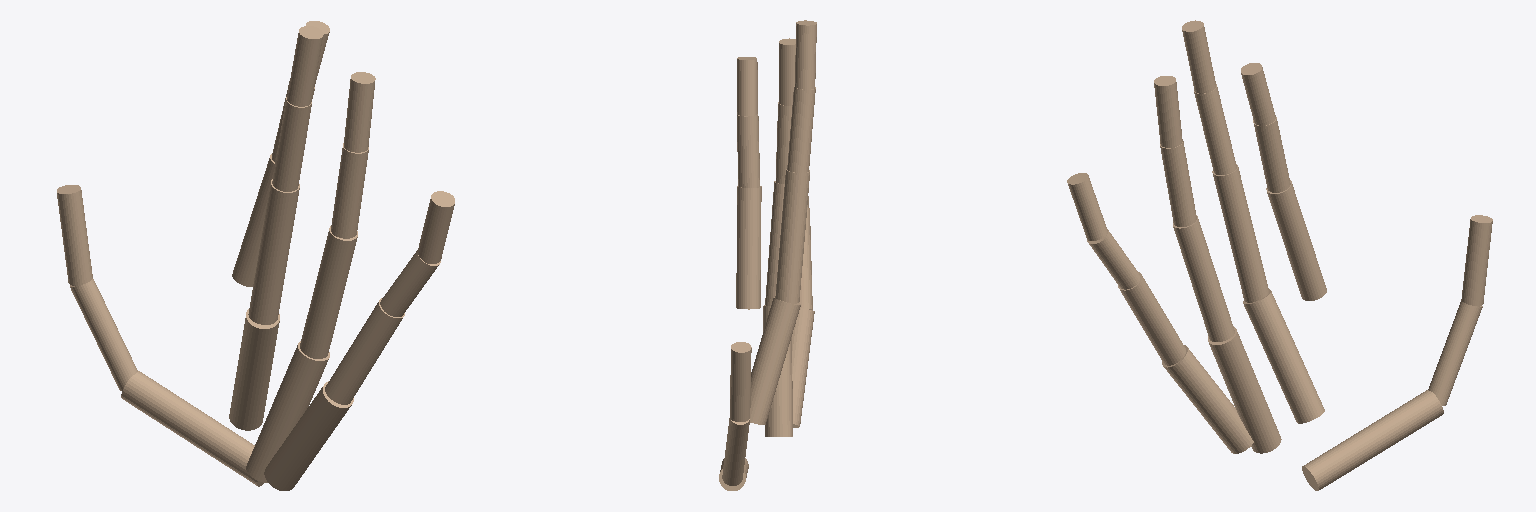
URDF robot description (DLR_handmodel):
<?xml version='1.0' encoding='utf-8'?>
<robot name="DLR_handmodel">
  <link name="ground_oriented" /><joint name="ground_orientation_joint" type="fixed"><parent link="ground" /><child link="ground_oriented" /><origin xyz="0 0 0" rpy="-1.5707963268 0.0000000000 0.0000000000" /></joint><link name="ground">
    <inertial>
      <origin xyz="0 0 0" rpy="0 0 0" />
      <mass value="0.001" />
      <inertia ixx="1e-6" iyy="1e-6" izz="1e-6" ixy="0" ixz="0" iyz="0" />
    </inertial>
  </link>
  <link name="MCP2a">
    <inertial>
      <origin xyz="0 0 0" rpy="0 0 0" />
      <mass value="0.001" />
      <inertia ixx="1e-6" iyy="1e-6" izz="1e-6" ixy="0" ixz="0" iyz="0" />
    </inertial>
  </link>
  <joint name="MCP2a_joint" type="revolute">
    <parent link="ground_oriented" />
    <child link="MCP2a" />
    <origin xyz="0.00112756 -0.02894003 -0.00258697" rpy="-2.97153179 0.17373322 -2.16226478" />
    <axis xyz="0 0 1" />
    <limit effort="10" velocity="10" lower="-1.02" upper="0.903" />
  </joint>
  <link name="MCP2b">
    <inertial>
      <origin xyz="0 0 0" rpy="0 0 0" />
      <mass value="0.001" />
      <inertia ixx="1e-6" iyy="1e-6" izz="1e-6" ixy="0" ixz="0" iyz="0" />
    </inertial>
  </link>
  <joint name="MCP2b_joint" type="revolute">
    <parent link="MCP2a" />
    <child link="MCP2b" />
    <origin xyz="0 0 0" rpy="1.57079327 1.29757309 -2.98206879" />
    <axis xyz="0 0 1" />
    <limit effort="10" velocity="10" lower="-0.203" upper="0.991" />
  </joint>
  <link name="PP2">
    <inertial>
      <origin xyz="0 0 0" rpy="0 0 0" />
      <mass value="0.001" />
      <inertia ixx="1e-6" iyy="1e-6" izz="1e-6" ixy="0" ixz="0" iyz="0" />
    </inertial>
    <visual>
      <origin xyz="0.00210206 0.00594899 0.00023393" rpy="1.51767576 0.02382108 0.02258825" />
      <geometry>
        <cylinder radius="0.004750" length="0.047381" />
      </geometry>
      <material>
        <color rgba="0.8 0.7 0.6 1.0" />
      </material>
    </visual>
  </link>
  <joint name="PP2_fixed" type="fixed">
    <parent link="MCP2b" />
    <child link="PP2" />
    <origin xyz="-0.01266949 -0.01784861 -0.02001128" rpy="2.01815253 0.68638224 1.52729883" />
  </joint>
  <link name="PIP2">
    <inertial>
      <origin xyz="0 0 0" rpy="0 0 0" />
      <mass value="0.001" />
      <inertia ixx="1e-6" iyy="1e-6" izz="1e-6" ixy="0" ixz="0" iyz="0" />
    </inertial>
  </link>
  <joint name="PIP2_joint" type="revolute">
    <parent link="PP2" />
    <child link="PIP2" />
    <origin xyz="0.00266634 -0.01770148 0.00149144" rpy="3.02407871 0.32603526 2.08465167" />
    <axis xyz="0 0 1" />
    <limit effort="10" velocity="10" lower="-2.008" upper="0.171" />
  </joint>
  <link name="PM2">
    <inertial>
      <origin xyz="0 0 0" rpy="0 0 0" />
      <mass value="0.001" />
      <inertia ixx="1e-6" iyy="1e-6" izz="1e-6" ixy="0" ixz="0" iyz="0" />
    </inertial>
    <visual>
      <origin xyz="0.00085370 0.00262885 0.00111374" rpy="1.52870185 0.02065890 0.01980714" />
      <geometry>
        <cylinder radius="0.004250" length="0.028645" />
      </geometry>
      <material>
        <color rgba="0.8 0.7 0.6 1.0" />
      </material>
    </visual>
  </link>
  <joint name="PM2_fixed" type="fixed">
    <parent link="PIP2" />
    <child link="PM2" />
    <origin xyz="-0.01430452 -0.00863928 0.00285207" rpy="-3.00555093 0.26221168 2.12536254" />
  </joint>
  <link name="DIP2">
    <inertial>
      <origin xyz="0 0 0" rpy="0 0 0" />
      <mass value="0.001" />
      <inertia ixx="1e-6" iyy="1e-6" izz="1e-6" ixy="0" ixz="0" iyz="0" />
    </inertial>
    <visual>
      <origin xyz="-0.01055456 -0.00294827 0.00050222" rpy="-1.52498367 -0.02609802 1.84199250" />
      <geometry>
        <cylinder radius="0.004000" length="0.021940" />
      </geometry>
      <material>
        <color rgba="0.8 0.7 0.6 1.0" />
      </material>
    </visual>
  </link>
  <joint name="DIP2_joint" type="revolute">
    <parent link="PM2" />
    <child link="DIP2" />
    <origin xyz="0.00114957 -0.01167801 0.00171634" rpy="3.10919338 0.05910672 1.83892284" />
    <axis xyz="0 0 1" />
    <limit effort="10" velocity="10" lower="-1.366" upper="0.829" />
  </joint>
  <link name="CMC1a">
    <inertial>
      <origin xyz="0 0 0" rpy="0 0 0" />
      <mass value="0.001" />
      <inertia ixx="1e-6" iyy="1e-6" izz="1e-6" ixy="0" ixz="0" iyz="0" />
    </inertial>
  </link>
  <joint name="CMC1a_joint" type="revolute">
    <parent link="ground_oriented" />
    <child link="CMC1a" />
    <origin xyz="0.01950111 0.02695073 0.00443441" rpy="2.48727972 -0.14754713 -0.42888542" />
    <axis xyz="0 0 1" />
    <limit effort="10" velocity="10" lower="-0.929" upper="0.27" />
  </joint>
  <link name="CMC1b">
    <inertial>
      <origin xyz="0 0 0" rpy="0 0 0" />
      <mass value="0.001" />
      <inertia ixx="1e-6" iyy="1e-6" izz="1e-6" ixy="0" ixz="0" iyz="0" />
    </inertial>
  </link>
  <joint name="CMC1b_joint" type="revolute">
    <parent link="CMC1a" />
    <child link="CMC1b" />
    <origin xyz="-0.01737179 -0.00971473 0.00000009" rpy="-1.37890303 0.5583485 1.29247478" />
    <axis xyz="0 0 1" />
    <limit effort="10" velocity="10" lower="0.005" upper="0.866" />
  </joint>
  <link name="MC1">
    <inertial>
      <origin xyz="0 0 0" rpy="0 0 0" />
      <mass value="0.001" />
      <inertia ixx="1e-6" iyy="1e-6" izz="1e-6" ixy="0" ixz="0" iyz="0" />
    </inertial>
    <visual>
      <origin xyz="0.00280980 0.00826182 -0.00805952" rpy="1.30083853 -0.05313827 -0.04043512" />
      <geometry>
        <cylinder radius="0.005250" length="0.054157" />
      </geometry>
      <material>
        <color rgba="0.8 0.7 0.6 1.0" />
      </material>
    </visual>
  </link>
  <joint name="MC1_fixed" type="fixed">
    <parent link="CMC1b" />
    <child link="MC1" />
    <origin xyz="0.03354848 -0.01248297 0.01216455" rpy="-2.40732831 0.54908404 -1.85815669" />
  </joint>
  <link name="MCP1a">
    <inertial>
      <origin xyz="0 0 0" rpy="0 0 0" />
      <mass value="0.001" />
      <inertia ixx="1e-6" iyy="1e-6" izz="1e-6" ixy="0" ixz="0" iyz="0" />
    </inertial>
  </link>
  <joint name="MCP1a_joint" type="revolute">
    <parent link="MC1" />
    <child link="MCP1a" />
    <origin xyz="0.00137157 -0.01779916 -0.00084812" rpy="3.05390316 -0.00793818 0.17955431" />
    <axis xyz="0 0 1" />
    <limit effort="10" velocity="10" lower="-0.001" upper="1.614" />
  </joint>
  <link name="MCP1b">
    <inertial>
      <origin xyz="0 0 0" rpy="0 0 0" />
      <mass value="0.001" />
      <inertia ixx="1e-6" iyy="1e-6" izz="1e-6" ixy="0" ixz="0" iyz="0" />
    </inertial>
  </link>
  <joint name="MCP1b_joint" type="revolute">
    <parent link="MCP1a" />
    <child link="MCP1b" />
    <origin xyz="0 0 0" rpy="1.57077559 1.40697104 -1.11025748" />
    <axis xyz="0 0 1" />
    <limit effort="10" velocity="10" lower="-0.002" upper="1.189" />
  </joint>
  <link name="PP1">
    <inertial>
      <origin xyz="0 0 0" rpy="0 0 0" />
      <mass value="0.001" />
      <inertia ixx="1e-6" iyy="1e-6" izz="1e-6" ixy="0" ixz="0" iyz="0" />
    </inertial>
    <visual>
      <origin xyz="0.00187697 0.00534056 0.00067829" rpy="1.53491659 0.00178693 0.00172394" />
      <geometry>
        <cylinder radius="0.004000" length="0.037984" />
      </geometry>
      <material>
        <color rgba="0.8 0.7 0.6 1.0" />
      </material>
    </visual>
  </link>
  <joint name="PP1_fixed" type="fixed">
    <parent link="MCP1b" />
    <child link="PP1" />
    <origin xyz="-0.00881935 -0.01471952 -0.01733277" rpy="1.5741734 0.70472886 1.03560697" />
  </joint>
  <link name="IP1">
    <inertial>
      <origin xyz="0 0 0" rpy="0 0 0" />
      <mass value="0.001" />
      <inertia ixx="1e-6" iyy="1e-6" izz="1e-6" ixy="0" ixz="0" iyz="0" />
    </inertial>
    <visual>
      <origin xyz="-0.00586655 -0.01483146 0.00018116" rpy="-1.55930435 -0.15299313 2.76317902" />
      <geometry>
        <cylinder radius="0.004000" length="0.031901" />
      </geometry>
      <material>
        <color rgba="0.8 0.7 0.6 1.0" />
      </material>
    </visual>
  </link>
  <joint name="IP1_joint" type="revolute">
    <parent link="PP1" />
    <child link="IP1" />
    <origin xyz="0.00191091 -0.0136391 0.00135957" rpy="3.1212228 -0.2734143 -3.20378307" />
    <axis xyz="0 0 1" />
    <limit effort="10" velocity="10" lower="-1.0" upper="0.793" />
  </joint>
  <link name="IMC3">
    <inertial>
      <origin xyz="0 0 0" rpy="0 0 0" />
      <mass value="0.001" />
      <inertia ixx="1e-6" iyy="1e-6" izz="1e-6" ixy="0" ixz="0" iyz="0" />
    </inertial>
  </link>
  <joint name="IMC3_joint" type="revolute">
    <parent link="ground_oriented" />
    <child link="IMC3" />
    <origin xyz="0.000273 0.01967667 -0.00381503" rpy="1.77115361 -0.08468856 -0.10358527" />
    <axis xyz="0 0 1" />
    <limit effort="10" velocity="10" lower="-0.076" upper="0.27" />
  </joint>
  <link name="MC3">
    <inertial>
      <origin xyz="0 0 0" rpy="0 0 0" />
      <mass value="0.001" />
      <inertia ixx="1e-6" iyy="1e-6" izz="1e-6" ixy="0" ixz="0" iyz="0" />
    </inertial>
    <visual>
      <origin xyz="0.00361529 -0.00394312 0.00514889" rpy="1.75995059 -0.04621467 -0.05589681" />
      <geometry>
        <cylinder radius="0.005500" length="0.048806" />
      </geometry>
      <material>
        <color rgba="0.8 0.7 0.6 1.0" />
      </material>
    </visual>
  </link>
  <joint name="MC3_fixed" type="fixed">
    <parent link="IMC3" />
    <child link="MC3" />
    <origin xyz="-0.00495342 -0.00967755 0.01997446" rpy="-1.55666295 0.02564177 -0.07324621" />
  </joint>
  <link name="MCP3a">
    <inertial>
      <origin xyz="0 0 0" rpy="0 0 0" />
      <mass value="0.001" />
      <inertia ixx="1e-6" iyy="1e-6" izz="1e-6" ixy="0" ixz="0" iyz="0" />
    </inertial>
  </link>
  <joint name="MCP3a_joint" type="revolute">
    <parent link="MC3" />
    <child link="MCP3a" />
    <origin xyz="0.00248792 -0.02788517 0.00056535" rpy="-3.06481638 0.18119135 -3.05161826" />
    <axis xyz="0 0 1" />
    <limit effort="10" velocity="10" lower="-1.401" upper="0.655" />
  </joint>
  <link name="MCP3b">
    <inertial>
      <origin xyz="0 0 0" rpy="0 0 0" />
      <mass value="0.001" />
      <inertia ixx="1e-6" iyy="1e-6" izz="1e-6" ixy="0" ixz="0" iyz="0" />
    </inertial>
  </link>
  <joint name="MCP3b_joint" type="revolute">
    <parent link="MCP3a" />
    <child link="MCP3b" />
    <origin xyz="0 0 0" rpy="1.57079258 1.43881163 2.40418212" />
    <axis xyz="0 0 1" />
    <limit effort="10" velocity="10" lower="-0.361" upper="0.379" />
  </joint>
  <link name="PP3">
    <inertial>
      <origin xyz="0 0 0" rpy="0 0 0" />
      <mass value="0.001" />
      <inertia ixx="1e-6" iyy="1e-6" izz="1e-6" ixy="0" ixz="0" iyz="0" />
    </inertial>
    <visual>
      <origin xyz="0.00198584 0.00617869 0.00052671" rpy="1.57515141 0.03801393 0.03817980" />
      <geometry>
        <cylinder radius="0.004750" length="0.052070" />
      </geometry>
      <material>
        <color rgba="0.8 0.7 0.6 1.0" />
      </material>
    </visual>
  </link>
  <joint name="PP3_fixed" type="fixed">
    <parent link="MCP3b" />
    <child link="PP3" />
    <origin xyz="-0.00585579 -0.02263291 -0.02216632" rpy="1.80985017 0.74680743 1.67804873" />
  </joint>
  <link name="PIP3">
    <inertial>
      <origin xyz="0 0 0" rpy="0 0 0" />
      <mass value="0.001" />
      <inertia ixx="1e-6" iyy="1e-6" izz="1e-6" ixy="0" ixz="0" iyz="0" />
    </inertial>
  </link>
  <joint name="PIP3_joint" type="revolute">
    <parent link="PP3" />
    <child link="PIP3" />
    <origin xyz="0.00297529 -0.01983706 0.00041341" rpy="-3.10128167 0.0516092 -2.38548014" />
    <axis xyz="0 0 1" />
    <limit effort="10" velocity="10" lower="-1.989" upper="0.233" />
  </joint>
  <link name="PM3">
    <inertial>
      <origin xyz="0 0 0" rpy="0 0 0" />
      <mass value="0.001" />
      <inertia ixx="1e-6" iyy="1e-6" izz="1e-6" ixy="0" ixz="0" iyz="0" />
    </inertial>
    <visual>
      <origin xyz="-0.00003813 0.00286024 0.00063869" rpy="1.61707877 0.00949522 0.00994517" />
      <geometry>
        <cylinder radius="0.004250" length="0.033133" />
      </geometry>
      <material>
        <color rgba="0.8 0.7 0.6 1.0" />
      </material>
    </visual>
  </link>
  <joint name="PM3_fixed" type="fixed">
    <parent link="PIP3" />
    <child link="PM3" />
    <origin xyz="0.0128016 -0.0146496 0.00044222" rpy="3.0920109 -0.00372241 -2.41345172" />
  </joint>
  <link name="DIP3">
    <inertial>
      <origin xyz="0 0 0" rpy="0 0 0" />
      <mass value="0.001" />
      <inertia ixx="1e-6" iyy="1e-6" izz="1e-6" ixy="0" ixz="0" iyz="0" />
    </inertial>
    <visual>
      <origin xyz="0.00230593 -0.01261149 0.00046200" rpy="-1.53328061 -0.28324714 -2.97123572" />
      <geometry>
        <cylinder radius="0.004000" length="0.025658" />
      </geometry>
      <material>
        <color rgba="0.8 0.7 0.6 1.0" />
      </material>
    </visual>
  </link>
  <joint name="DIP3_joint" type="revolute">
    <parent link="PM3" />
    <child link="DIP3" />
    <origin xyz="0.00011917 -0.01368763 -0.00012773" rpy="-3.06294799 0.29509605 -2.90405259" />
    <axis xyz="0 0 1" />
    <limit effort="10" velocity="10" lower="-1.486" upper="0.418" />
  </joint>
  <link name="IMC4">
    <inertial>
      <origin xyz="0 0 0" rpy="0 0 0" />
      <mass value="0.001" />
      <inertia ixx="1e-6" iyy="1e-6" izz="1e-6" ixy="0" ixz="0" iyz="0" />
    </inertial>
  </link>
  <joint name="IMC4_joint" type="revolute">
    <parent link="MC3" />
    <child link="IMC4" />
    <origin xyz="0.00060402 0.02840978 -0.0080106" rpy="1.27408673 -0.19279634 -0.05286132" />
    <axis xyz="0 0 1" />
    <limit effort="10" velocity="10" lower="0.005" upper="0.366" />
  </joint>
  <link name="MC4">
    <inertial>
      <origin xyz="0 0 0" rpy="0 0 0" />
      <mass value="0.001" />
      <inertia ixx="1e-6" iyy="1e-6" izz="1e-6" ixy="0" ixz="0" iyz="0" />
    </inertial>
    <visual>
      <origin xyz="0.00183217 0.00048279 0.00038408" rpy="1.64362475 -0.04336960 -0.04664786" />
      <geometry>
        <cylinder radius="0.005500" length="0.050772" />
      </geometry>
      <material>
        <color rgba="0.8 0.7 0.6 1.0" />
      </material>
    </visual>
  </link>
  <joint name="MC4_fixed" type="fixed">
    <parent link="IMC4" />
    <child link="MC4" />
    <origin xyz="0.0030355 -0.0128709 0.02243187" rpy="-1.13307596 0.24986687 0.0261586" />
  </joint>
  <link name="MCP4a">
    <inertial>
      <origin xyz="0 0 0" rpy="0 0 0" />
      <mass value="0.001" />
      <inertia ixx="1e-6" iyy="1e-6" izz="1e-6" ixy="0" ixz="0" iyz="0" />
    </inertial>
  </link>
  <joint name="MCP4a_joint" type="revolute">
    <parent link="MC4" />
    <child link="MCP4a" />
    <origin xyz="0.00073153 -0.02481215 -0.00146137" rpy="-3.02998578 0.00639049 -0.52427495" />
    <axis xyz="0 0 1" />
    <limit effort="10" velocity="10" lower="-1.462" upper="0.77" />
  </joint>
  <link name="MCP4b">
    <inertial>
      <origin xyz="0 0 0" rpy="0 0 0" />
      <mass value="0.001" />
      <inertia ixx="1e-6" iyy="1e-6" izz="1e-6" ixy="0" ixz="0" iyz="0" />
    </inertial>
  </link>
  <joint name="MCP4b_joint" type="revolute">
    <parent link="MCP4a" />
    <child link="MCP4b" />
    <origin xyz="0 0 0" rpy="1.57079782 0.88958636 -0.97804086" />
    <axis xyz="0 0 1" />
    <limit effort="10" velocity="10" lower="-0.358" upper="0.419" />
  </joint>
  <link name="PP4">
    <inertial>
      <origin xyz="0 0 0" rpy="0 0 0" />
      <mass value="0.001" />
      <inertia ixx="1e-6" iyy="1e-6" izz="1e-6" ixy="0" ixz="0" iyz="0" />
    </inertial>
    <visual>
      <origin xyz="0.00010893 0.00527716 0.00003490" rpy="1.58444621 0.00125565 0.00127291" />
      <geometry>
        <cylinder radius="0.004750" length="0.048276" />
      </geometry>
      <material>
        <color rgba="0.8 0.7 0.6 1.0" />
      </material>
    </visual>
  </link>
  <joint name="PP4_fixed" type="fixed">
    <parent link="MCP4b" />
    <child link="PP4" />
    <origin xyz="-0.00768566 -0.01508707 -0.02405368" rpy="1.50910016 0.60894585 1.01390811" />
  </joint>
  <link name="PIP4">
    <inertial>
      <origin xyz="0 0 0" rpy="0 0 0" />
      <mass value="0.001" />
      <inertia ixx="1e-6" iyy="1e-6" izz="1e-6" ixy="0" ixz="0" iyz="0" />
    </inertial>
  </link>
  <joint name="PIP4_joint" type="revolute">
    <parent link="PP4" />
    <child link="PIP4" />
    <origin xyz="0.00013924 -0.01885876 -0.00029457" rpy="3.14059038 0.01510742 2.4491022" />
    <axis xyz="0 0 1" />
    <limit effort="10" velocity="10" lower="-1.939" upper="0.342" />
  </joint>
  <link name="PM4">
    <inertial>
      <origin xyz="0 0 0" rpy="0 0 0" />
      <mass value="0.001" />
      <inertia ixx="1e-6" iyy="1e-6" izz="1e-6" ixy="0" ixz="0" iyz="0" />
    </inertial>
    <visual>
      <origin xyz="0.00054710 0.00295739 0.00068523" rpy="1.57967216 -0.02144662 -0.02163781" />
      <geometry>
        <cylinder radius="0.004250" length="0.032009" />
      </geometry>
      <material>
        <color rgba="0.8 0.7 0.6 1.0" />
      </material>
    </visual>
  </link>
  <joint name="PM4_fixed" type="fixed">
    <parent link="PIP4" />
    <child link="PM4" />
    <origin xyz="-0.0119595 -0.01470671 -0.00124534" rpy="3.03185818 0.0095041 2.41124171" />
  </joint>
  <link name="DIP4">
    <inertial>
      <origin xyz="0 0 0" rpy="0 0 0" />
      <mass value="0.001" />
      <inertia ixx="1e-6" iyy="1e-6" izz="1e-6" ixy="0" ixz="0" iyz="0" />
    </inertial>
    <visual>
      <origin xyz="-0.00814642 -0.00948367 -0.00088321" rpy="-1.64132691 0.00933881 2.43123979" />
      <geometry>
        <cylinder radius="0.004000" length="0.025067" />
      </geometry>
      <material>
        <color rgba="0.8 0.7 0.6 1.0" />
      </material>
    </visual>
  </link>
  <joint name="DIP4_joint" type="revolute">
    <parent link="PM4" />
    <child link="DIP4" />
    <origin xyz="0.00020388 -0.01304283 0.00054321" rpy="-3.13801871 -0.03828433 2.42544903" />
    <axis xyz="0 0 1" />
    <limit effort="10" velocity="10" lower="-1.495" upper="0.457" />
  </joint>
  <link name="IMC5">
    <inertial>
      <origin xyz="0 0 0" rpy="0 0 0" />
      <mass value="0.001" />
      <inertia ixx="1e-6" iyy="1e-6" izz="1e-6" ixy="0" ixz="0" iyz="0" />
    </inertial>
  </link>
  <joint name="IMC5_joint" type="revolute">
    <parent link="MC4" />
    <child link="IMC5" />
    <origin xyz="0.00133314 0.02238944 -0.00555069" rpy="1.4215517 -0.03266849 -0.28812425" />
    <axis xyz="0 0 1" />
    <limit effort="10" velocity="10" lower="-0.005" upper="0.395" />
  </joint>
  <link name="MC5">
    <inertial>
      <origin xyz="0 0 0" rpy="0 0 0" />
      <mass value="0.001" />
      <inertia ixx="1e-6" iyy="1e-6" izz="1e-6" ixy="0" ixz="0" iyz="0" />
    </inertial>
    <visual>
      <origin xyz="0.00009122 -0.00118817 0.00497271" rpy="1.73849483 0.07347235 0.08694007" />
      <geometry>
        <cylinder radius="0.005500" length="0.045314" />
      </geometry>
      <material>
        <color rgba="0.8 0.7 0.6 1.0" />
      </material>
    </visual>
  </link>
  <joint name="MC5_fixed" type="fixed">
    <parent link="IMC5" />
    <child link="MC5" />
    <origin xyz="0.00258619 -0.0143344 0.01765157" rpy="-1.28482247 0.05594939 0.00161629" />
  </joint>
  <link name="MCP5a">
    <inertial>
      <origin xyz="0 0 0" rpy="0 0 0" />
      <mass value="0.001" />
      <inertia ixx="1e-6" iyy="1e-6" izz="1e-6" ixy="0" ixz="0" iyz="0" />
    </inertial>
  </link>
  <joint name="MCP5a_joint" type="revolute">
    <parent link="MC5" />
    <child link="MCP5a" />
    <origin xyz="0.00175437 -0.02346684 0.00120119" rpy="-1.59299831 -1.0835392 1.10326" />
    <axis xyz="0 0 1" />
    <limit effort="10" velocity="10" lower="-0.65" upper="0.305" />
  </joint>
  <link name="MCP5b">
    <inertial>
      <origin xyz="0 0 0" rpy="0 0 0" />
      <mass value="0.001" />
      <inertia ixx="1e-6" iyy="1e-6" izz="1e-6" ixy="0" ixz="0" iyz="0" />
    </inertial>
  </link>
  <joint name="MCP5b_joint" type="revolute">
    <parent link="MCP5a" />
    <child link="MCP5b" />
    <origin xyz="0 0 0" rpy="1.57079157 1.299249 -2.19199508" />
    <axis xyz="0 0 1" />
    <limit effort="10" velocity="10" lower="-1.702" upper="0.983" />
  </joint>
  <link name="PP5">
    <inertial>
      <origin xyz="0 0 0" rpy="0 0 0" />
      <mass value="0.001" />
      <inertia ixx="1e-6" iyy="1e-6" izz="1e-6" ixy="0" ixz="0" iyz="0" />
    </inertial>
    <visual>
      <origin xyz="0.00129768 0.00423329 0.00021813" rpy="1.60714241 -0.01449333 -0.01502990" />
      <geometry>
        <cylinder radius="0.004750" length="0.039501" />
      </geometry>
      <material>
        <color rgba="0.8 0.7 0.6 1.0" />
      </material>
    </visual>
  </link>
  <joint name="PP5_fixed" type="fixed">
    <parent link="MCP5b" />
    <child link="PP5" />
    <origin xyz="0.01915435 0.01451382 -0.00058784" rpy="3.08139078 -0.05082231 -0.98716161" />
  </joint>
  <link name="PIP5">
    <inertial>
      <origin xyz="0 0 0" rpy="0 0 0" />
      <mass value="0.001" />
      <inertia ixx="1e-6" iyy="1e-6" izz="1e-6" ixy="0" ixz="0" iyz="0" />
    </inertial>
  </link>
  <joint name="PIP5_joint" type="revolute">
    <parent link="PP5" />
    <child link="PIP5" />
    <origin xyz="0.00101144 -0.01550217 -0.00049949" rpy="-3.09076508 0.22127951 -2.73171742" />
    <axis xyz="0 0 1" />
    <limit effort="10" velocity="10" lower="-1.886" upper="0.213" />
  </joint>
  <link name="PM5">
    <inertial>
      <origin xyz="0 0 0" rpy="0 0 0" />
      <mass value="0.001" />
      <inertia ixx="1e-6" iyy="1e-6" izz="1e-6" ixy="0" ixz="0" iyz="0" />
    </inertial>
    <visual>
      <origin xyz="-0.00011656 0.00242718 -0.00129161" rpy="1.68153524 0.02364885 0.02642390" />
      <geometry>
        <cylinder radius="0.004250" length="0.025134" />
      </geometry>
      <material>
        <color rgba="0.8 0.7 0.6 1.0" />
      </material>
    </visual>
  </link>
  <joint name="PM5_fixed" type="fixed">
    <parent link="PIP5" />
    <child link="PM5" />
    <origin xyz="0.00633628 -0.01348262 -0.00081588" rpy="3.08032639 -0.00152062 -2.67440633" />
  </joint>
  <link name="DIP5">
    <inertial>
      <origin xyz="0 0 0" rpy="0 0 0" />
      <mass value="0.001" />
      <inertia ixx="1e-6" iyy="1e-6" izz="1e-6" ixy="0" ixz="0" iyz="0" />
    </inertial>
    <visual>
      <origin xyz="0.00586147 -0.01017793 -0.00202047" rpy="-1.74225917 0.11297019 -2.63860008" />
      <geometry>
        <cylinder radius="0.004000" length="0.023835" />
      </geometry>
      <material>
        <color rgba="0.8 0.7 0.6 1.0" />
      </material>
    </visual>
  </link>
  <joint name="DIP5_joint" type="revolute">
    <parent link="PM5" />
    <child link="DIP5" />
    <origin xyz="0.0001806 -0.01005921 -0.00268002" rpy="3.11811207 -0.07074845 -2.69091568" />
    <axis xyz="0 0 1" />
    <limit effort="10" velocity="10" lower="-1.629" upper="0.179" />
  </joint>
</robot>

--- What the picture shows (computed from the rendered views, not written in the file) ---
Views: 3 orthographic renders of the robot side by side, from view 1: azimuth 30°, elevation 25°; view 2: azimuth 150°, elevation 25°; view 3: azimuth 270°, elevation 25°.
Robot: DLR_handmodel — 39 links, 38 joints (24 revolute, 14 fixed); root link ground; default pose: all joints at 0 but 2 set to mid-range because 0 is outside their limits (CMC1b_joint = 0.4355, IMC4_joint = 0.1855).
Links seen in each view (by area): view 1: MC1, PP3, MC4, MC3, PP4, MC5, PP5, PP1, IP1, PM4, PM3, DIP3 (+4 smaller); view 2: MC3, PP3, PP2, PM3, MC5, MC4, IP1, PM2, DIP3, PP1, PP4, DIP2 (+3 smaller); view 3: MC1, MC3, MC4, PP3, MC5, PP4, PP2, PP5, PP1, PM3, IP1, PM4 (+6 smaller).
Boxes of the visible links, left/top/right/bottom form: MC1: left=121, top=371, right=263, bottom=486; PP3: left=248, top=179, right=299, bottom=324; MC4: left=246, top=341, right=329, bottom=482; MC3: left=229, top=309, right=279, bottom=430; PP4: left=300, top=226, right=357, bottom=358; MC5: left=264, top=381, right=353, bottom=490; PP5: left=325, top=298, right=404, bottom=404; PP1: left=70, top=279, right=137, bottom=390; IP1: left=57, top=185, right=92, bottom=285; PM4: left=331, top=143, right=368, bottom=238; PM3: left=272, top=97, right=311, bottom=191; DIP3: left=287, top=26, right=322, bottom=106; MC3: left=750, top=297, right=800, bottom=424; PP3: left=775, top=169, right=809, bottom=303; PP2: left=736, top=186, right=761, bottom=309; PM3: left=787, top=86, right=815, bottom=172; MC5: left=792, top=308, right=814, bottom=427; MC4: left=763, top=305, right=792, bottom=436; IP1: left=730, top=342, right=751, bottom=421; PM2: left=737, top=114, right=759, bottom=187; DIP3: left=795, top=20, right=816, bottom=89; PP1: left=722, top=418, right=749, bottom=485; PP4: left=765, top=181, right=784, bottom=305; DIP2: left=737, top=57, right=757, bottom=115; MC1: left=1302, top=390, right=1443, bottom=490; MC3: left=1243, top=289, right=1324, bottom=423; MC4: left=1208, top=326, right=1281, bottom=453; PP3: left=1212, top=164, right=1268, bottom=302; MC5: left=1162, top=345, right=1253, bottom=453; PP4: left=1173, top=215, right=1234, bottom=341; PP2: left=1266, top=180, right=1326, bottom=300; PP5: left=1118, top=272, right=1185, bottom=365; PP1: left=1428, top=301, right=1482, bottom=405; PM3: left=1194, top=84, right=1236, bottom=174; IP1: left=1461, top=215, right=1492, bottom=306; PM4: left=1160, top=141, right=1196, bottom=226.
Bounding box of the posed robot: 0.0633 × 0.1515 × 0.1797 m (x, y, z).
Geometry: primitives only (box / cylinder / sphere), no mesh files.
